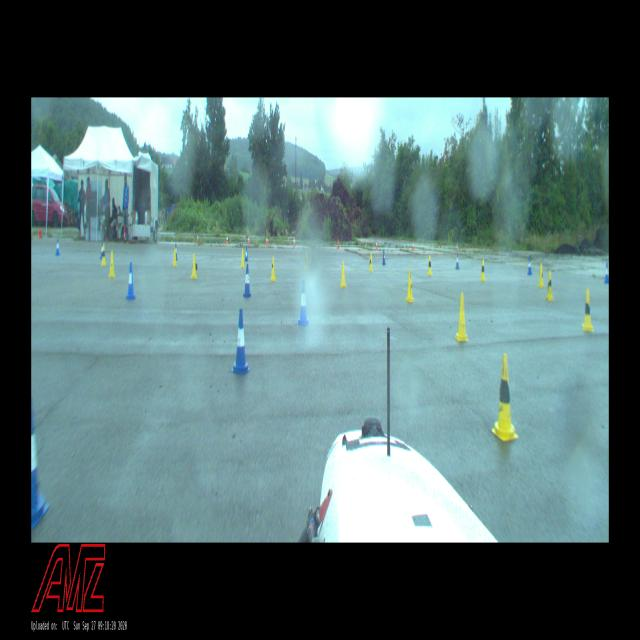blue_cone: (31, 397, 45, 522), (234, 309, 248, 373), (298, 279, 309, 326), (126, 262, 135, 299), (243, 264, 251, 296), (604, 262, 609, 282), (56, 238, 60, 255), (528, 257, 532, 274), (456, 253, 460, 269), (382, 250, 386, 264), (175, 243, 178, 259), (245, 246, 248, 261), (100, 240, 102, 260)
orange_cone: (39, 229, 43, 238), (456, 241, 458, 252), (226, 234, 228, 244), (376, 239, 378, 249), (197, 233, 199, 243), (412, 240, 414, 250), (337, 239, 339, 249), (294, 237, 296, 246), (266, 236, 268, 245), (248, 235, 250, 244)
yellow_cone: (495, 353, 514, 440), (456, 293, 468, 341), (583, 289, 593, 331), (406, 269, 414, 301), (546, 271, 554, 301), (108, 250, 115, 277), (537, 264, 544, 288), (340, 261, 346, 287), (270, 257, 276, 281), (191, 255, 197, 279), (239, 249, 245, 269), (480, 258, 485, 280), (102, 244, 106, 265), (428, 256, 432, 276), (369, 253, 373, 271), (173, 250, 177, 266), (305, 251, 308, 268)
